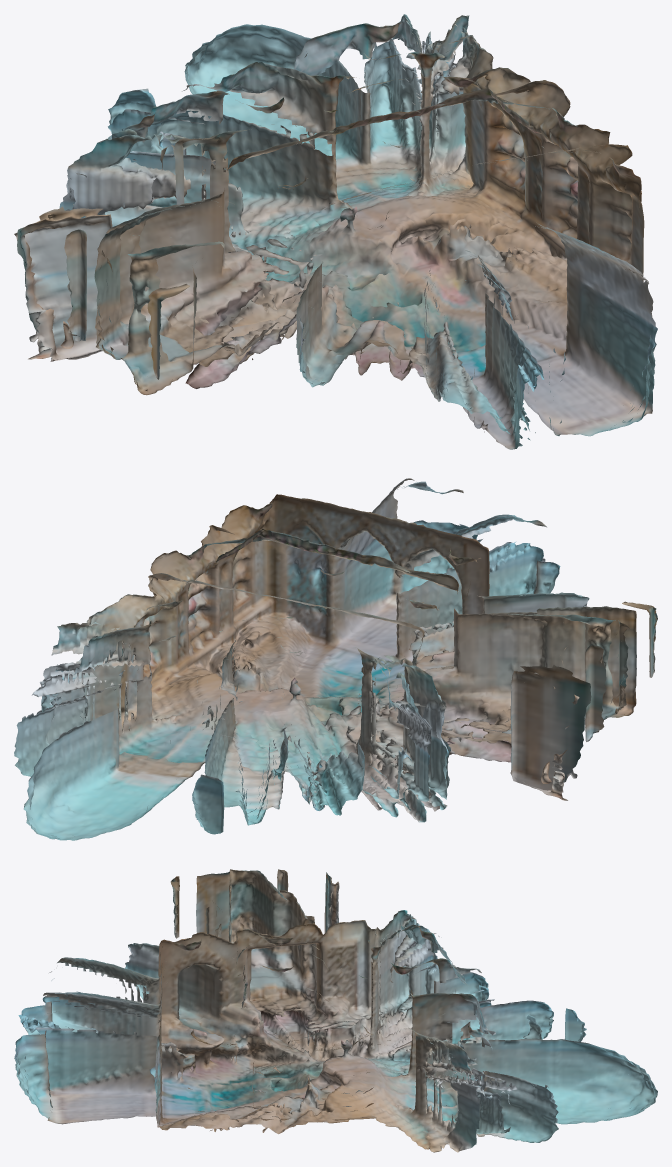
The model's file is ocean-breeze-office_collider.glb.
3 renders of one model, top to bottom at view 1: azimuth 30°, elevation 25°; view 2: azimuth 150°, elevation 25°; view 3: azimuth 270°, elevation 25°, orthographic. The views are drawn at different scales.
Parts seen in each view (by area): view 1: world; view 2: world; view 3: world.
Boxes of the visible parts, x1=… form: world: x1=14, y1=14, x2=657, y2=449; world: x1=14, y1=478, x2=657, y2=840; world: x1=14, y1=869, x2=657, y2=1152.
Size of the model in its own units: 11.11 by 3.69 by 15.79.
